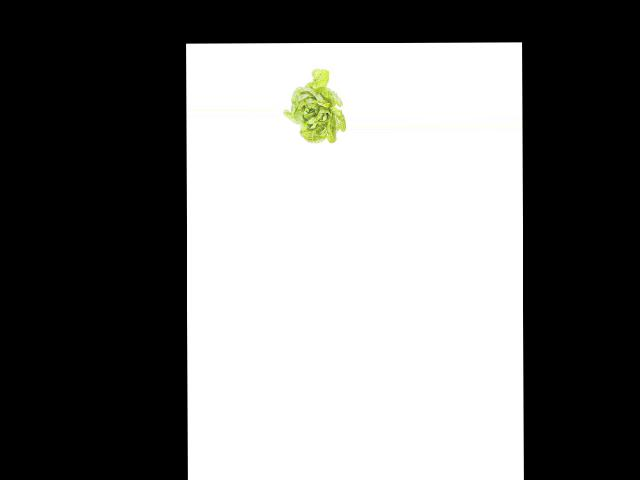lettuce: (282, 66, 344, 144)
